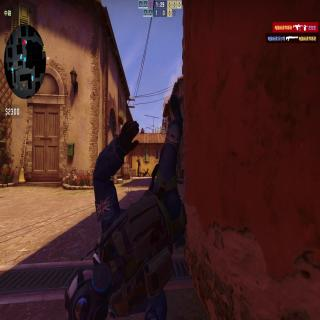T-Body: (136, 156, 140, 178)
T-Head: (138, 156, 140, 160)
